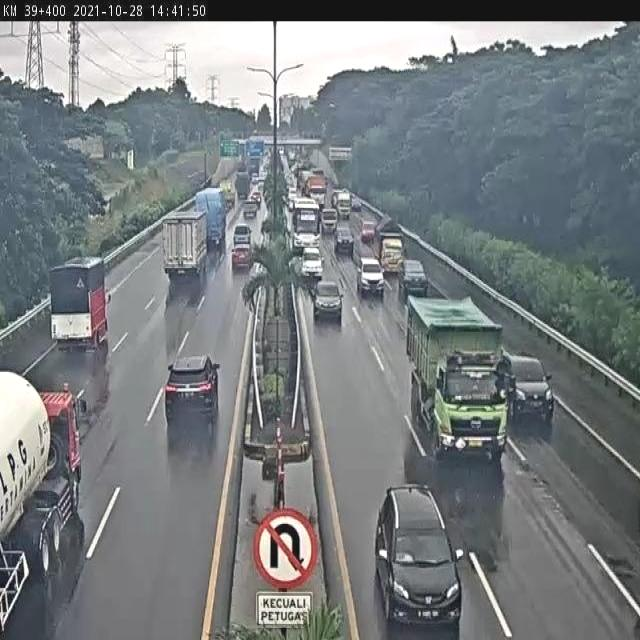Bus: (290, 199, 322, 253)
Car: (369, 481, 471, 640), (161, 352, 226, 437), (499, 350, 558, 425), (356, 254, 386, 301), (313, 281, 345, 325), (399, 258, 429, 298), (300, 245, 326, 282), (230, 242, 256, 274), (334, 226, 357, 254), (232, 221, 252, 243), (360, 221, 376, 246), (240, 202, 258, 221), (352, 198, 362, 213)
Truck: (0, 367, 91, 640), (406, 294, 516, 468), (44, 254, 112, 357), (160, 212, 208, 287), (194, 186, 227, 251), (304, 174, 329, 208), (331, 190, 351, 219), (234, 172, 250, 202), (321, 204, 337, 234)
